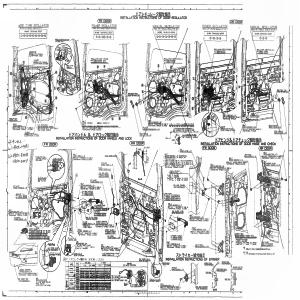PartNumber: (90, 181, 100, 183), (216, 50, 226, 52), (268, 126, 278, 128), (210, 166, 220, 168), (164, 163, 174, 165), (164, 155, 174, 157), (9, 120, 18, 122), (13, 125, 22, 127), (38, 126, 47, 128), (18, 196, 27, 198), (18, 194, 27, 196), (30, 231, 39, 233), (20, 270, 29, 272), (101, 246, 110, 248), (102, 254, 111, 256), (78, 230, 87, 232), (83, 222, 92, 224), (96, 222, 105, 224), (100, 176, 109, 178), (101, 164, 110, 166), (73, 155, 82, 157), (82, 125, 91, 127), (82, 122, 91, 124), (259, 52, 268, 54), (259, 50, 268, 52), (266, 164, 275, 166), (229, 159, 238, 161), (173, 238, 182, 240), (195, 246, 204, 248), (192, 228, 201, 230), (168, 204, 177, 206), (166, 199, 175, 201), (166, 196, 175, 198), (166, 194, 175, 196), (169, 172, 178, 174), (14, 187, 22, 189), (107, 232, 115, 234), (85, 192, 93, 194), (243, 126, 251, 128), (262, 243, 270, 245), (190, 216, 198, 218), (165, 161, 173, 163), (165, 160, 173, 162), (8, 211, 18, 212), (84, 194, 94, 195), (98, 169, 108, 170), (216, 52, 226, 53), (160, 285, 170, 286), (164, 157, 174, 158), (14, 219, 23, 220), (30, 230, 39, 231), (100, 174, 109, 175), (244, 156, 253, 157), (235, 235, 244, 236), (262, 245, 271, 246), (173, 237, 182, 238), (166, 198, 175, 199), (107, 231, 115, 232), (94, 60, 102, 61), (264, 154, 272, 155), (172, 269, 180, 270)
